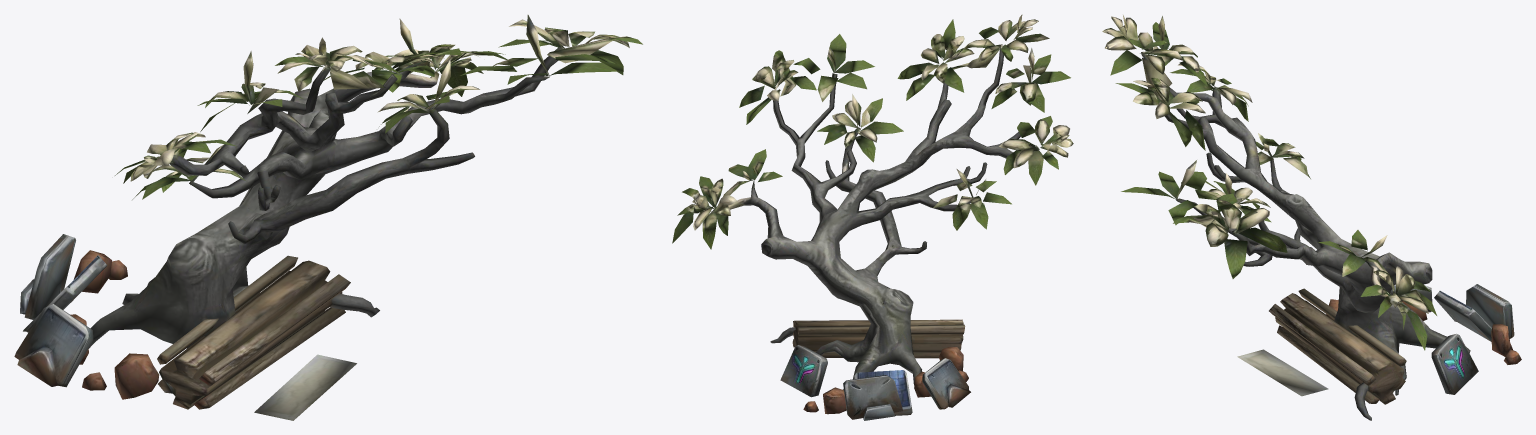
The model's file is frangipani.glb.
The picture shows the model from 3 angles, left to right: view 1: azimuth 30°, elevation 25°; view 2: azimuth 150°, elevation 25°; view 3: azimuth 270°, elevation 25°; orthographic projection. The views are drawn at different scales.
Visible parts, largest first — view 1: Body; view 2: Body; view 3: Body.
Part boxes in pixels (x1,y1,x2,y2): Body: [14, 15, 642, 420]; Body: [672, 14, 1073, 420]; Body: [1102, 15, 1521, 420].
Bounding box in the file's own units: 7.02 × 6 × 6.96.
1 material, 1 textured.
